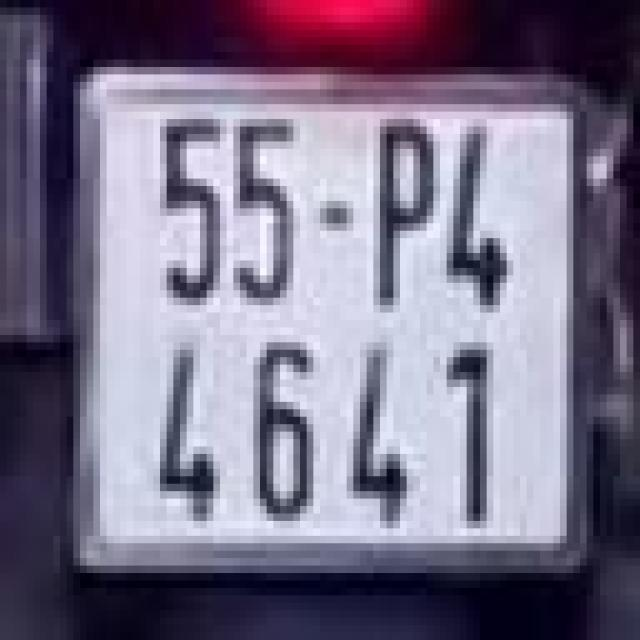1: (430, 335, 510, 536)
4: (327, 324, 413, 532), (440, 104, 513, 335), (153, 323, 220, 540)
5: (227, 115, 313, 309), (157, 111, 223, 312)
6: (243, 331, 317, 532)
P: (367, 116, 440, 316)
